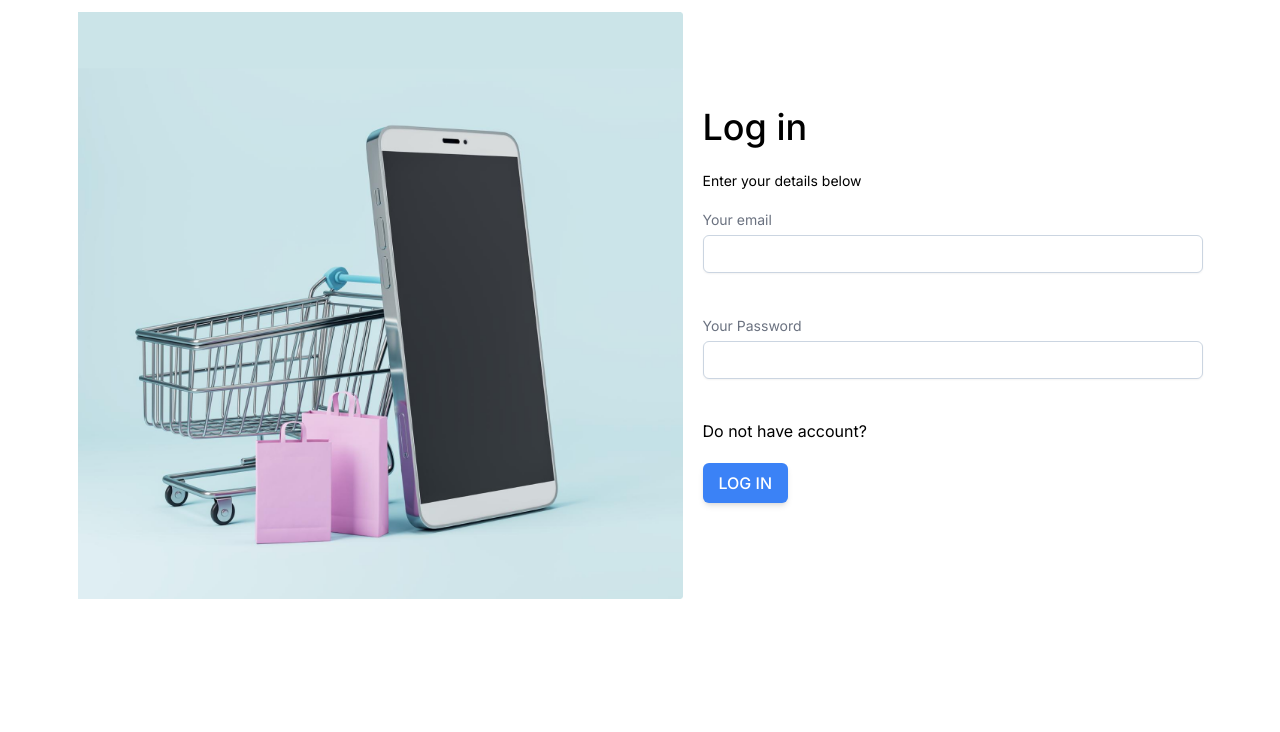
Scenario: Login page testing › should show validation errors for password input
Click the button with test id "btn-submit": (745, 484) [702, 464, 788, 504]
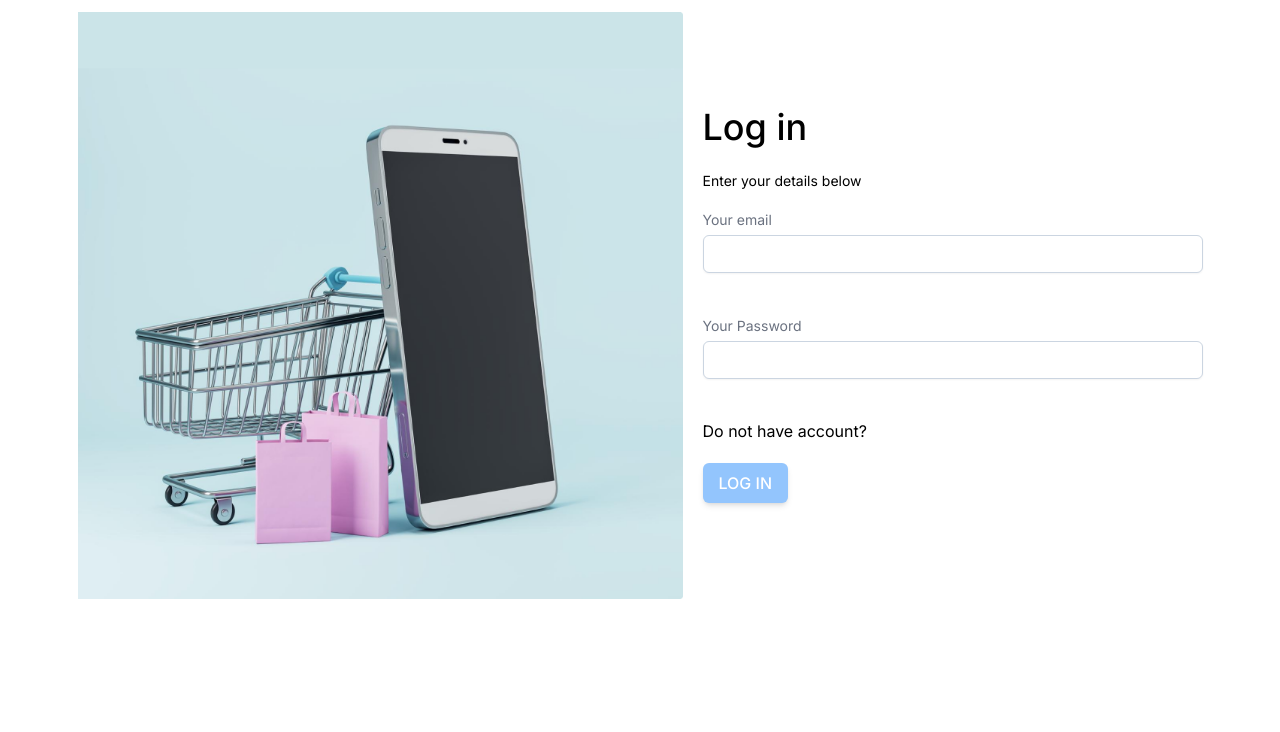
Leave the password field with test id "password", box [702, 342, 1202, 380]
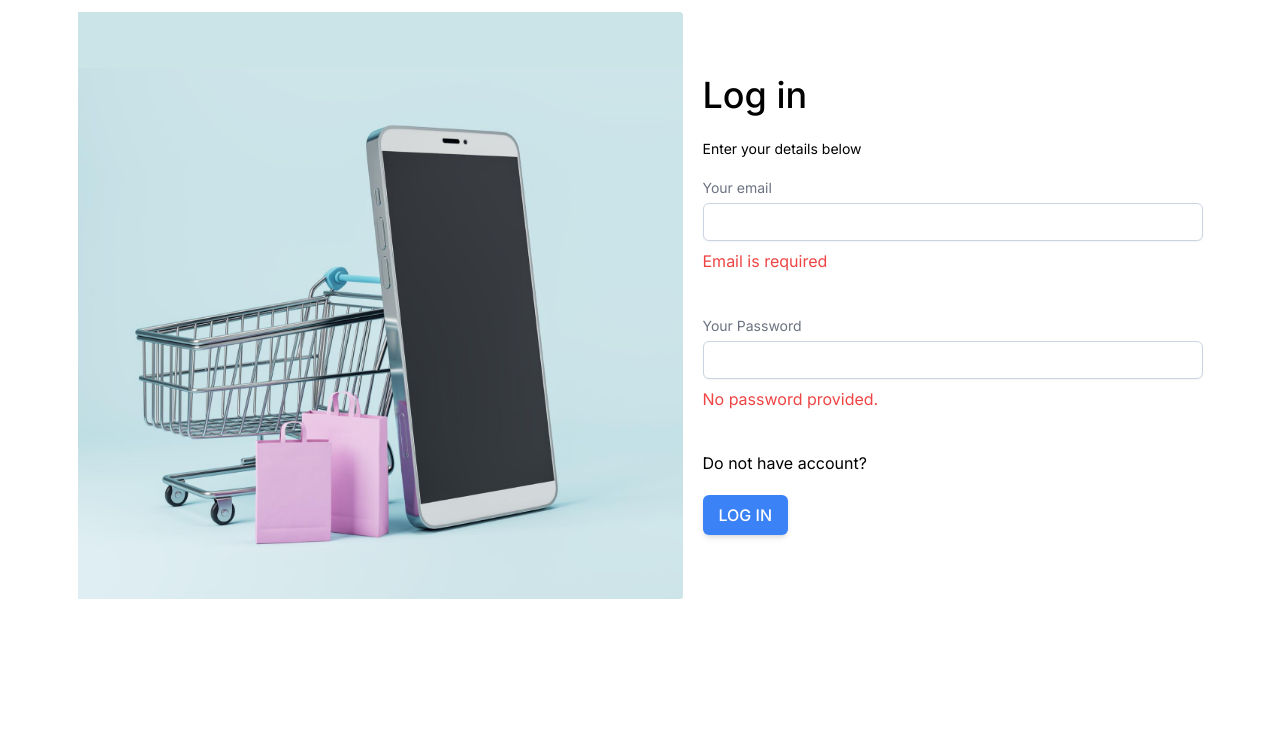
Check: the text with test id "email-error" reads "Email is required", box [702, 252, 827, 272]
In the field with test id "email": (952, 222) [702, 204, 1202, 242], type "invalidemail"
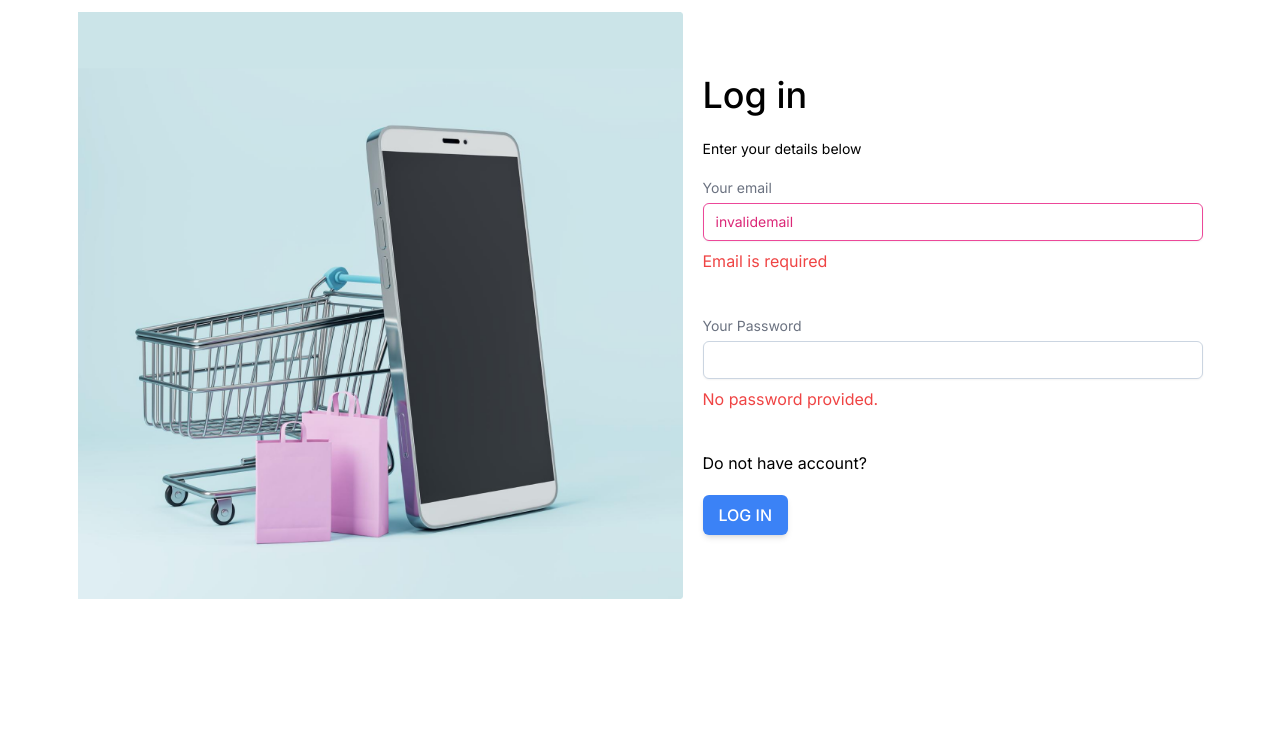
In the password field with test id "password": (952, 360) [702, 342, 1202, 380], type "123"
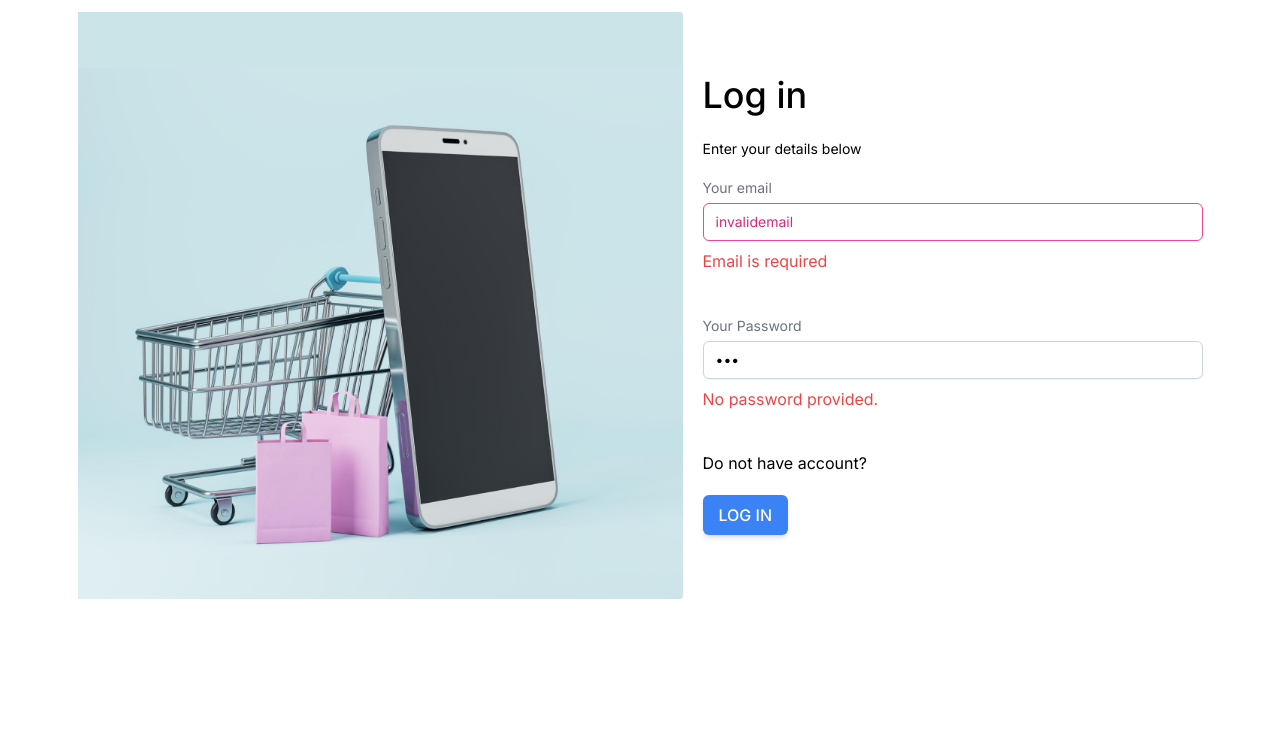
Click the button with test id "btn-submit": (745, 516) [702, 496, 788, 536]
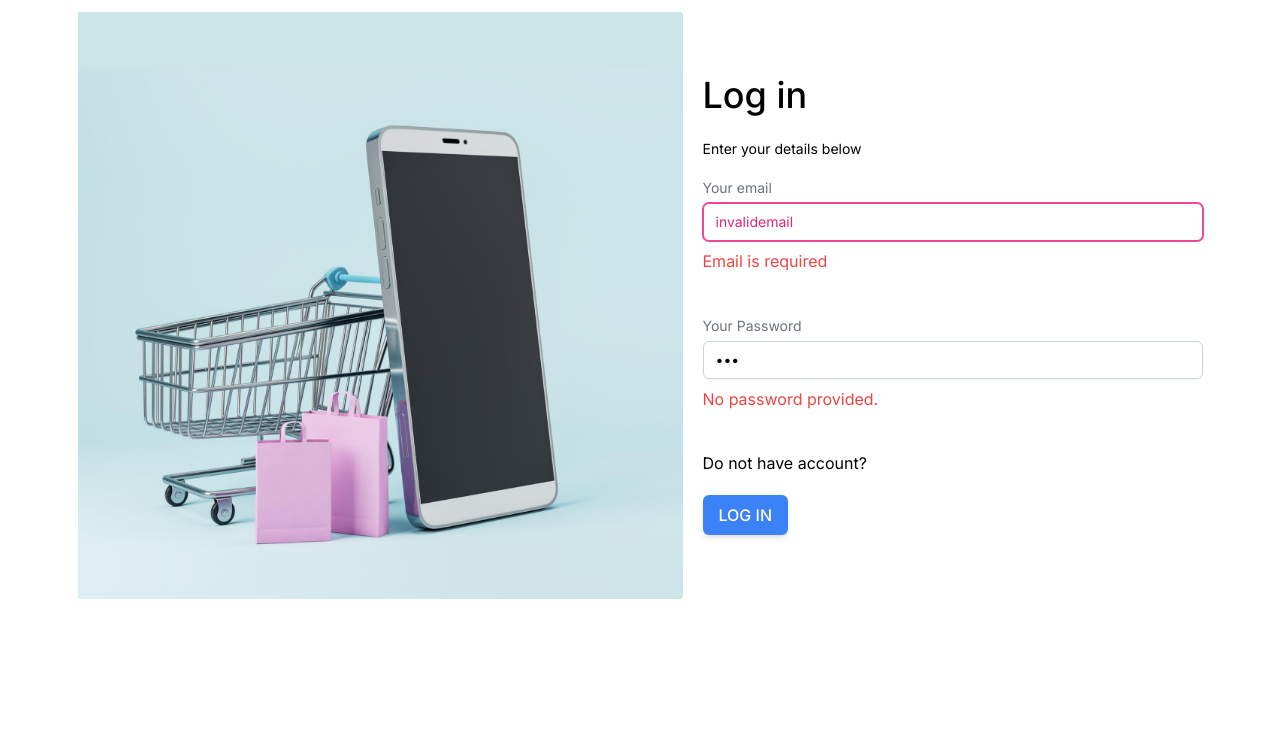
Leave the password field with test id "password", box [702, 342, 1202, 380]
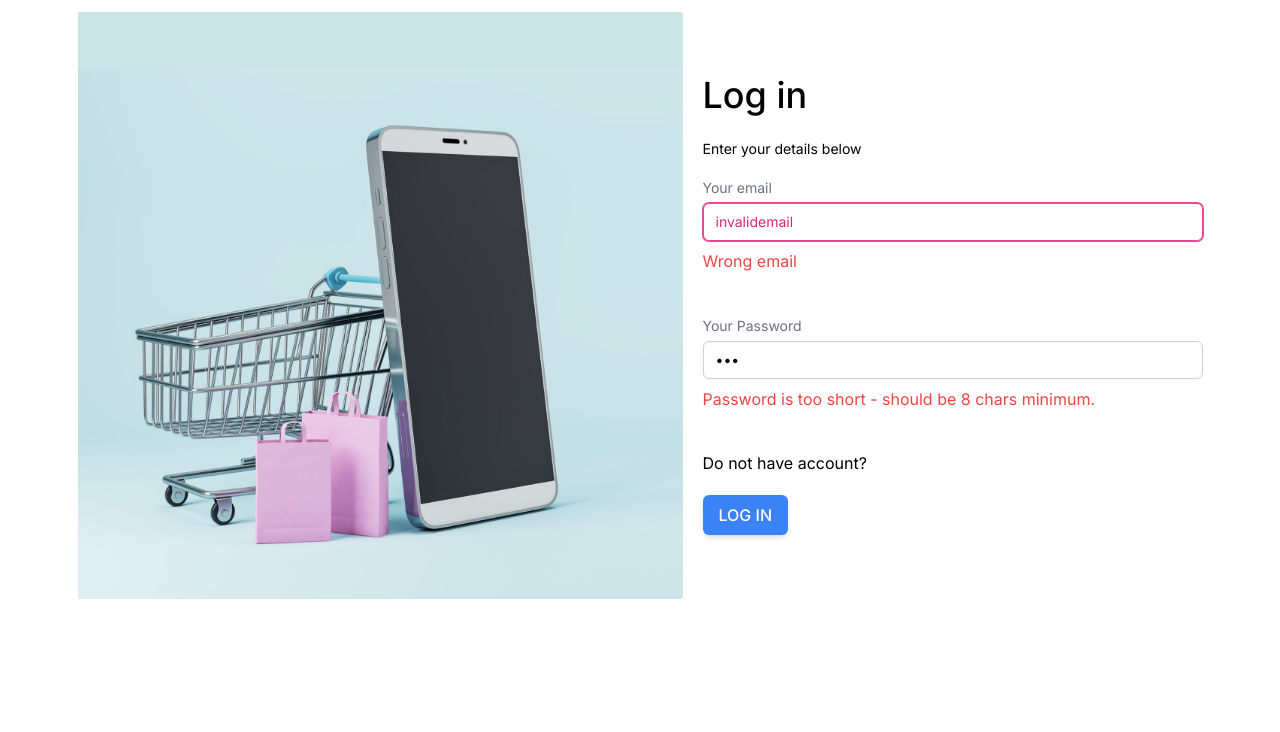
Check: the text with test id "email-error" reads "Wrong email", box [702, 252, 797, 272]
